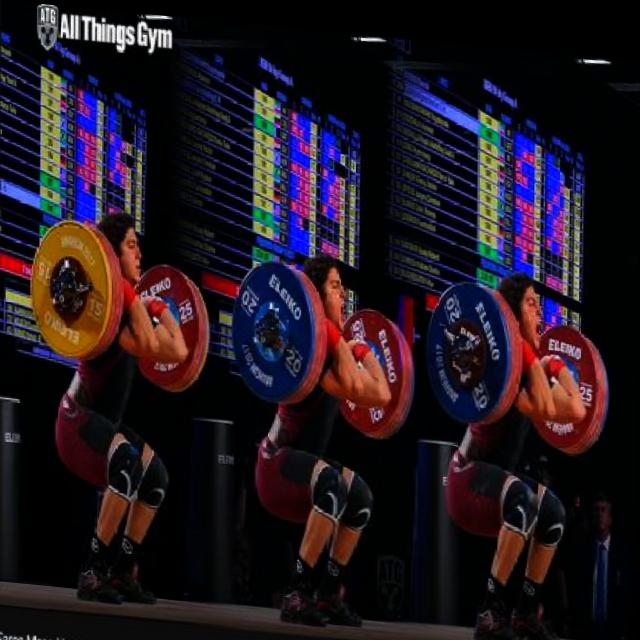barbell: (424, 269, 514, 424), (230, 246, 317, 405), (28, 216, 118, 363)
